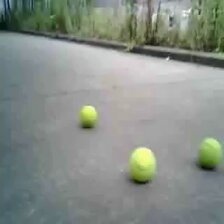tennis: (129, 147, 156, 182), (198, 139, 221, 167), (78, 104, 97, 127)
